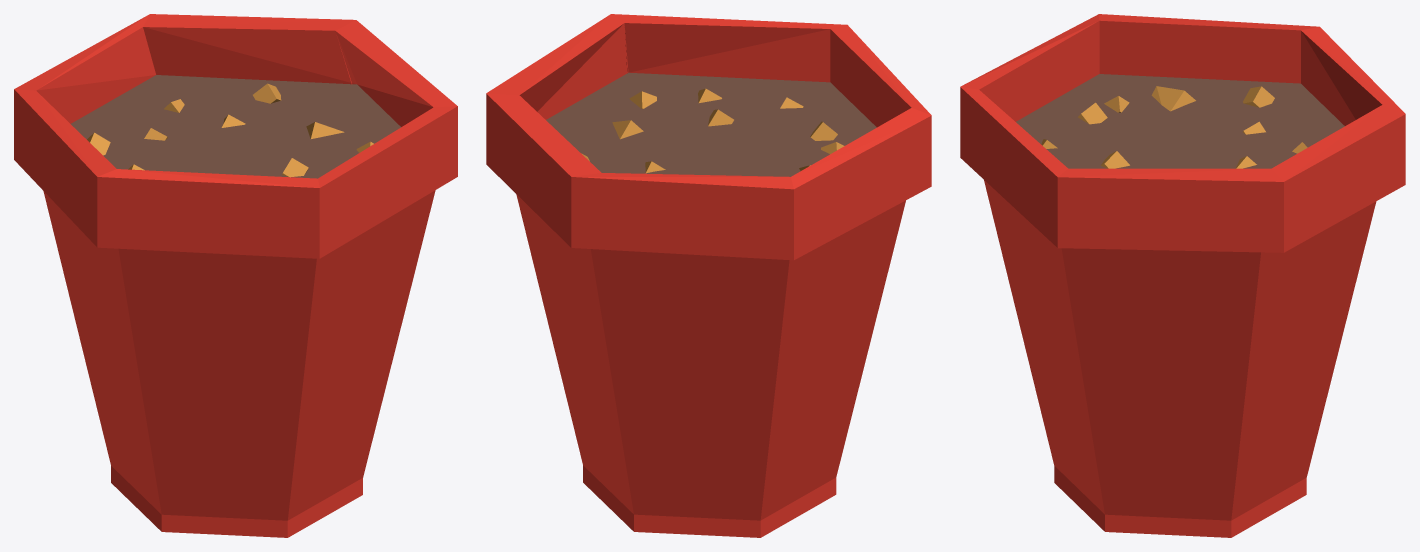
Rendered from red-flower-pot.glb.
The picture shows the model from 3 angles, left to right: view 1: azimuth 30°, elevation 25°; view 2: azimuth 150°, elevation 25°; view 3: azimuth 270°, elevation 25°; orthographic projection.
Visible parts, largest first — view 1: Node; view 2: Node; view 3: Node.
Boxes of the visible parts, <box> form: Node: <box>14,14,457,537</box>; Node: <box>486,14,931,537</box>; Node: <box>960,14,1405,537</box>.
Size of the model in its own units: 0.2079 by 0.2204 by 0.2279.
